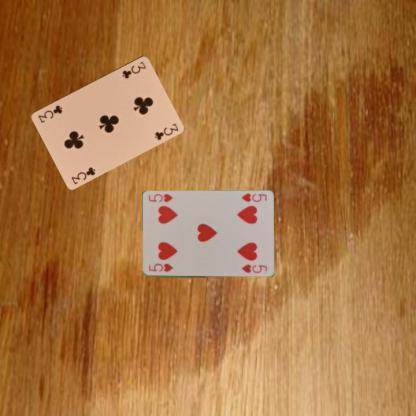3c: (120, 58, 148, 80), (68, 164, 96, 186)
5h: (238, 191, 268, 203), (146, 261, 174, 273)
